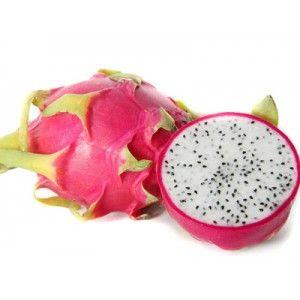dragon-fruit: (0, 66, 160, 224), (155, 90, 300, 255)
